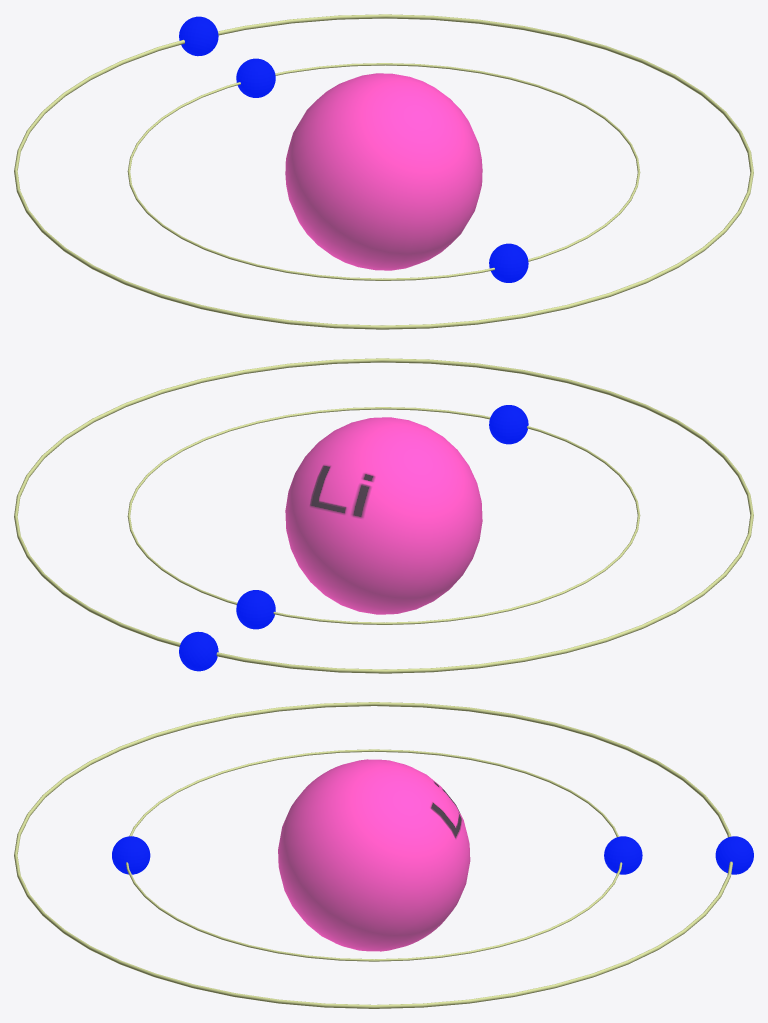
The picture shows the model from 3 angles, top to bottom: view 1: azimuth 30°, elevation 25°; view 2: azimuth 150°, elevation 25°; view 3: azimuth 270°, elevation 25°; orthographic projection. The views are drawn at different scales.
Parts seen in each view (by area): view 1: 球体, 贝塞尔圆环.001, 贝塞尔圆环, 球体.001, 球体.004, 球体.007; view 2: 球体, 贝塞尔圆环.001, 贝塞尔圆环, 球体.004, 球体.001, 球体.007; view 3: 球体, 贝塞尔圆环.001, 贝塞尔圆环, 球体.001, 球体.004, 球体.007.
Part boxes in pixels (x1,y1,x2,y2): 球体: (285,73,482,270); 贝塞尔圆环.001: (14,14,753,329); 贝塞尔圆环: (127,63,640,280); 球体.001: (236,58,275,97); 球体.004: (489,243,528,282); 球体.007: (179,16,218,56); 球体: (285,417,482,614); 贝塞尔圆环.001: (14,358,753,673); 贝塞尔圆环: (127,407,640,624); 球体.004: (489,405,528,444); 球体.001: (236,590,275,629); 球体.007: (179,631,218,671); 球体: (278,759,470,951); 贝塞尔圆环.001: (14,702,732,1008); 贝塞尔圆环: (126,749,622,961); 球体.001: (604,836,642,874); 球体.004: (112,836,150,874); 球体.007: (715,836,753,874).
Size of the model in its own units: 1.76 by 0.4694 by 1.81.
Materials: 3 (1 with a texture image).
